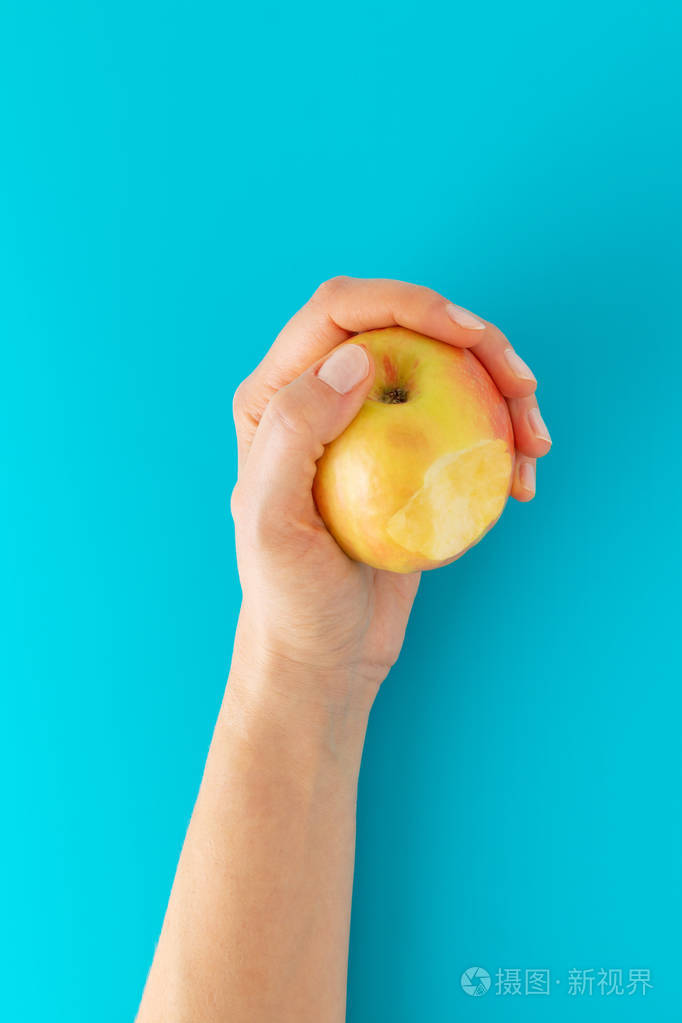no-phone: (221, 269, 557, 692)
